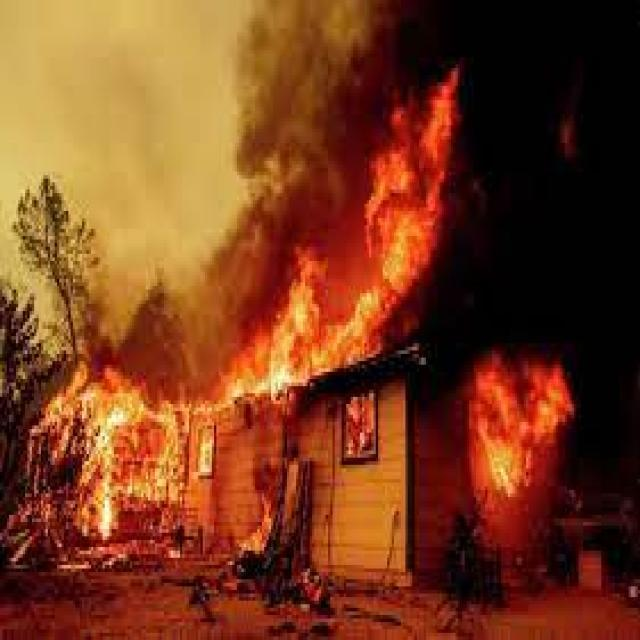Fire: (80, 370, 190, 528), (364, 111, 456, 282), (486, 357, 570, 485)
Smoke: (443, 0, 640, 360), (226, 2, 388, 298), (126, 253, 289, 413)
